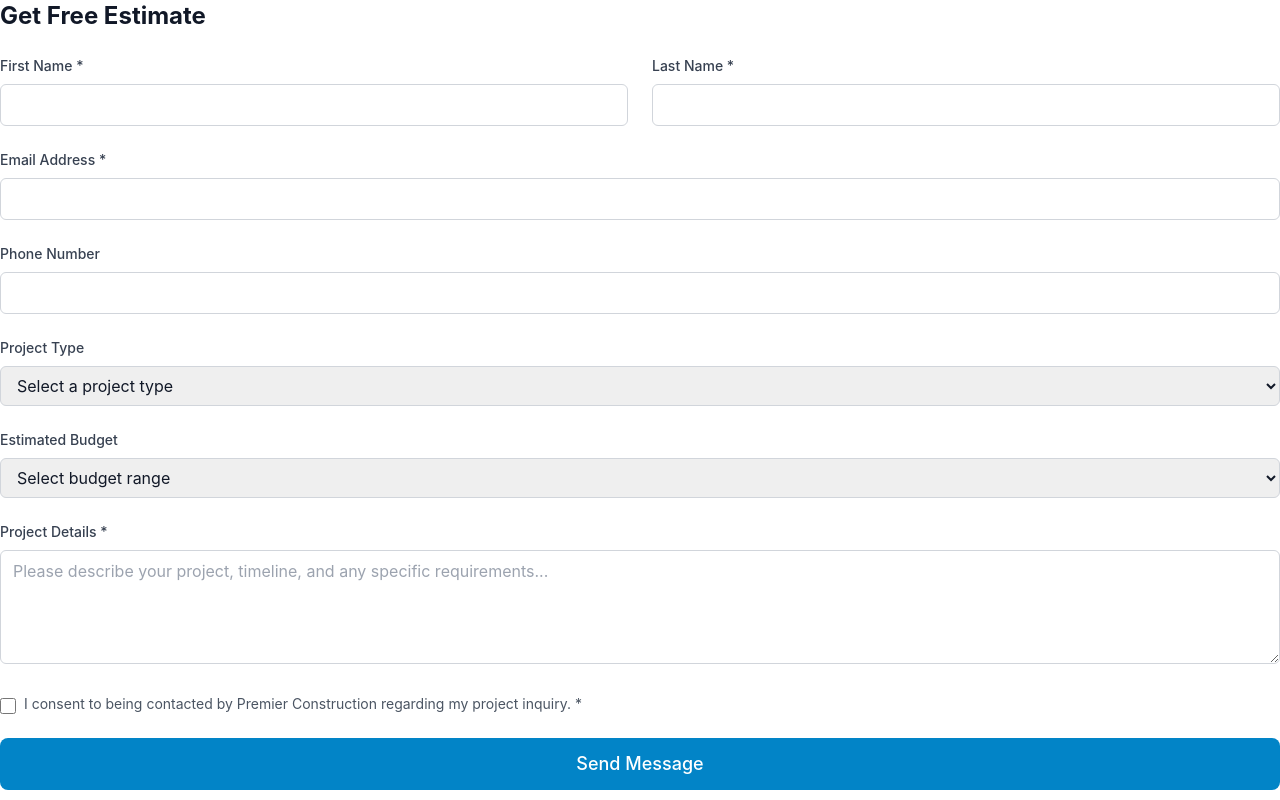
Test case: ContactForm Integration › should show validation errors for invalid data
# Try to submit without filling required fields
Step 1. Click the button "Send Message" → (640, 764), box x1=0 y1=738 x2=1279 y2=790
(page scrolled)
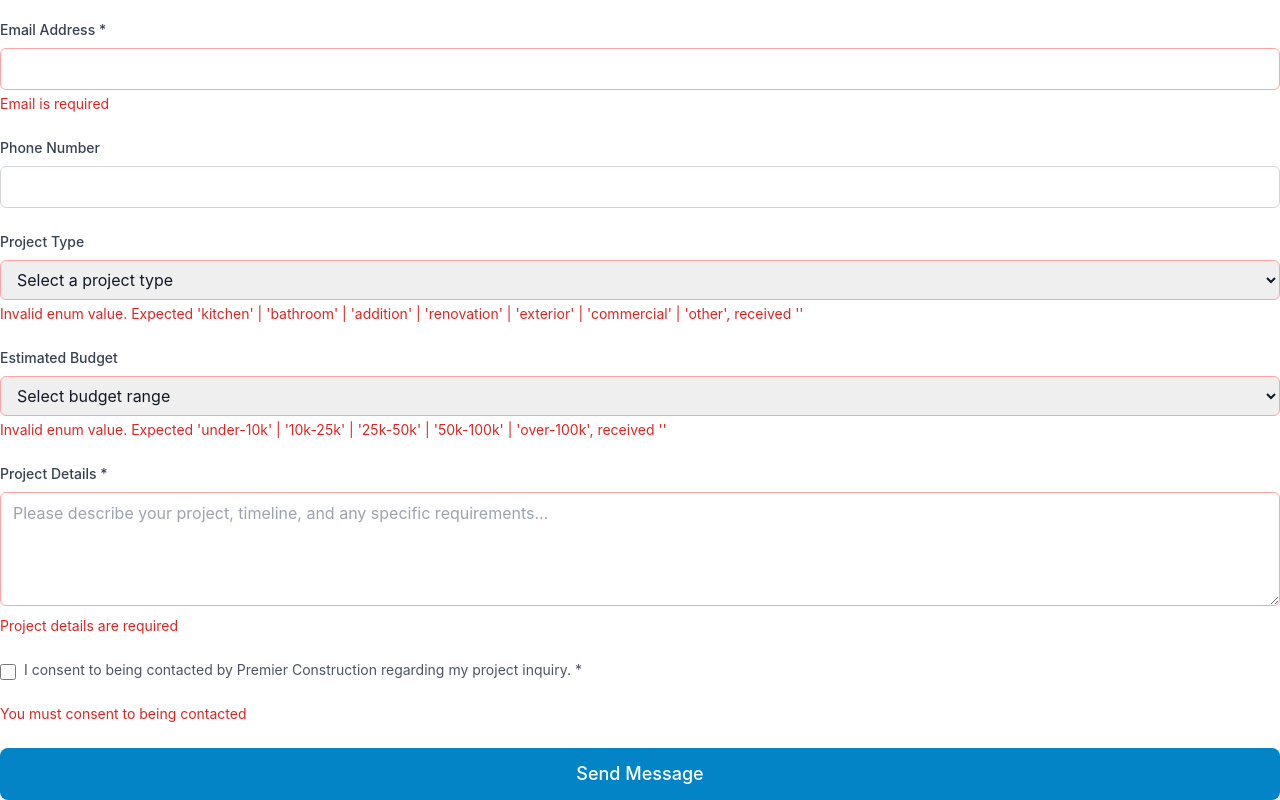
Expected: the text "Email is required" is shown, x1=0 y1=95 x2=109 y2=112
Expected: the text "Project details are required" is shown, x1=0 y1=617 x2=178 y2=634
Expected: the text "You must consent to being contacted" is shown, x1=0 y1=705 x2=246 y2=722
